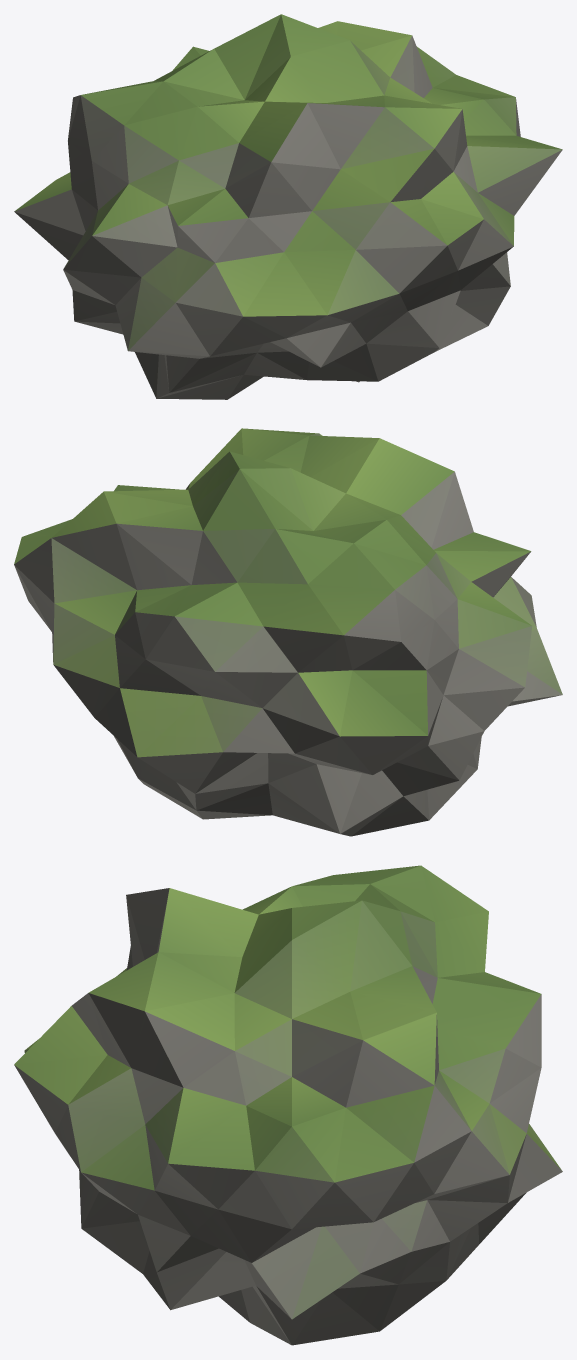
Rendered from rock_mid.glb.
The picture shows the model from 3 angles, top to bottom: view 1: azimuth 30°, elevation 25°; view 2: azimuth 150°, elevation 25°; view 3: azimuth 270°, elevation 25°; orthographic projection. The views are drawn at different scales.
Parts seen in each view (by area): view 1: Rock_mid-col; view 2: Rock_mid-col; view 3: Rock_mid-col.
Boxes of the visible parts, bbox=[...] form: Rock_mid-col: bbox=[14, 14, 562, 399]; Rock_mid-col: bbox=[14, 428, 562, 836]; Rock_mid-col: bbox=[14, 865, 562, 1345].
Bounding box in the file's own units: 2.01 × 1.4 × 1.71.
